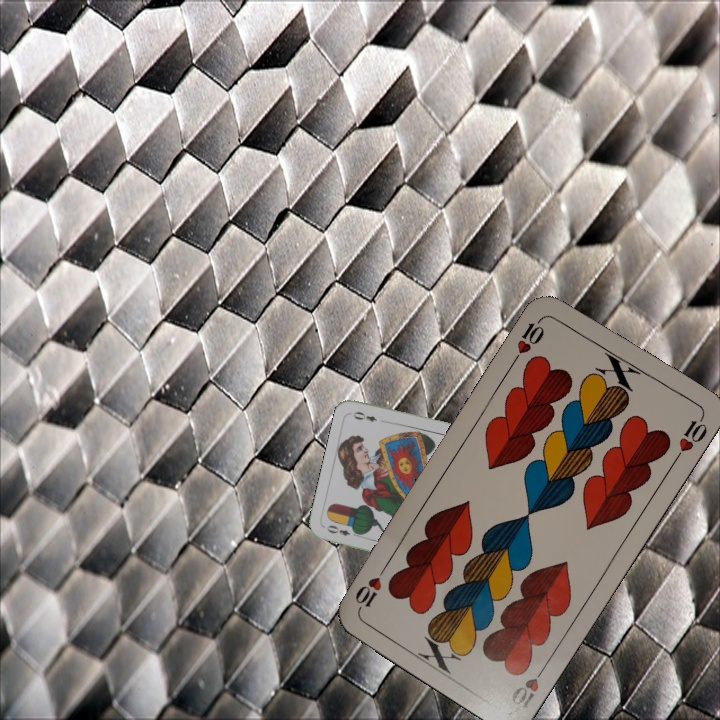EO: (322, 521, 362, 540)
H10: (507, 659, 550, 711), (509, 313, 547, 365)
